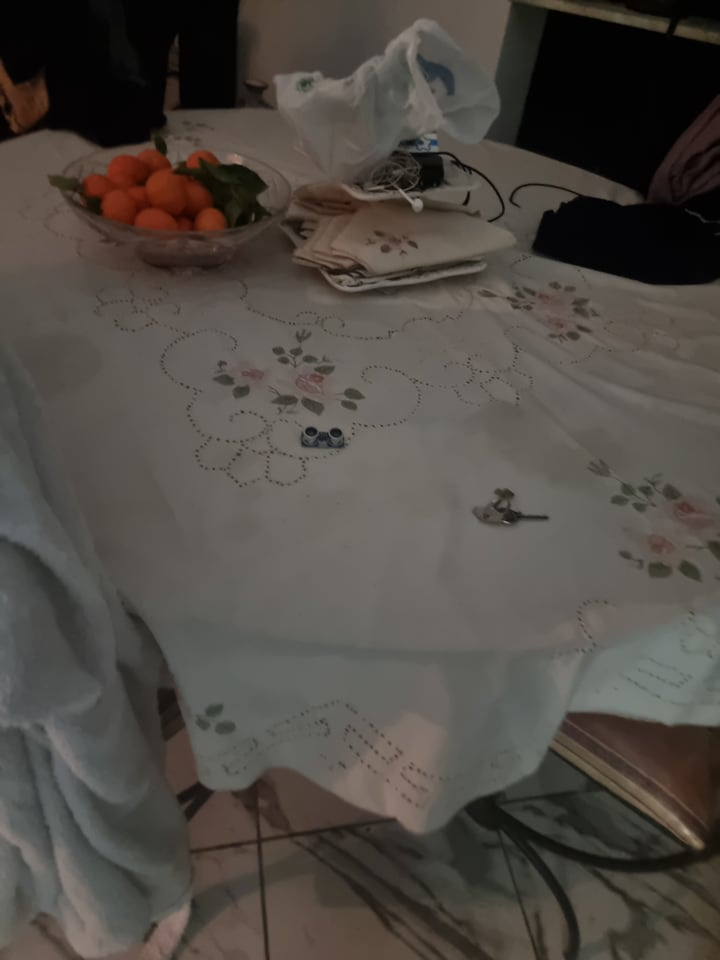SENSOR: (301, 427, 348, 450)
